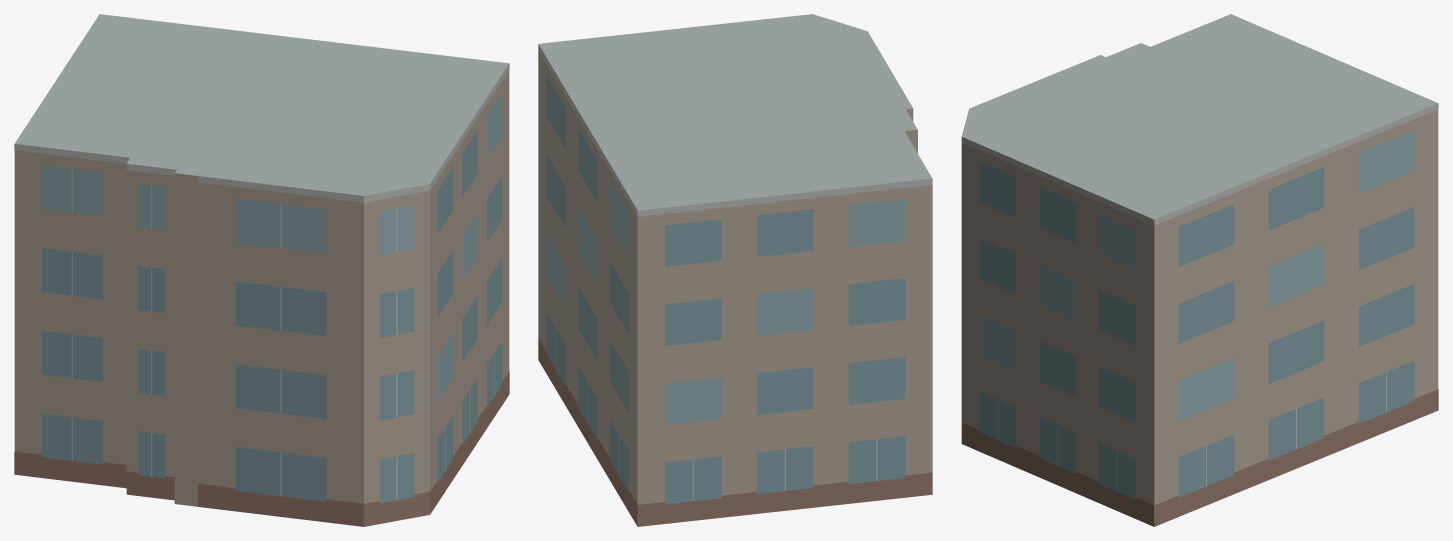
Rendered from survey-upis-32943406.glb.
The picture shows the model from 3 angles, left to right: view 1: azimuth 30°, elevation 25°; view 2: azimuth 150°, elevation 25°; view 3: azimuth 270°, elevation 25°; orthographic projection. The views are drawn at different scales.
Parts seen in each view (by area): view 1: survey-upis-32943406.tmp; view 2: survey-upis-32943406.tmp; view 3: survey-upis-32943406.tmp.
Part boxes in pixels (x1,y1,x2,y2): survey-upis-32943406.tmp: (14, 14, 509, 526); survey-upis-32943406.tmp: (538, 14, 932, 526); survey-upis-32943406.tmp: (961, 14, 1438, 526).
Bounding box in the file's own units: 17.51 × 12.2 × 17.16.
